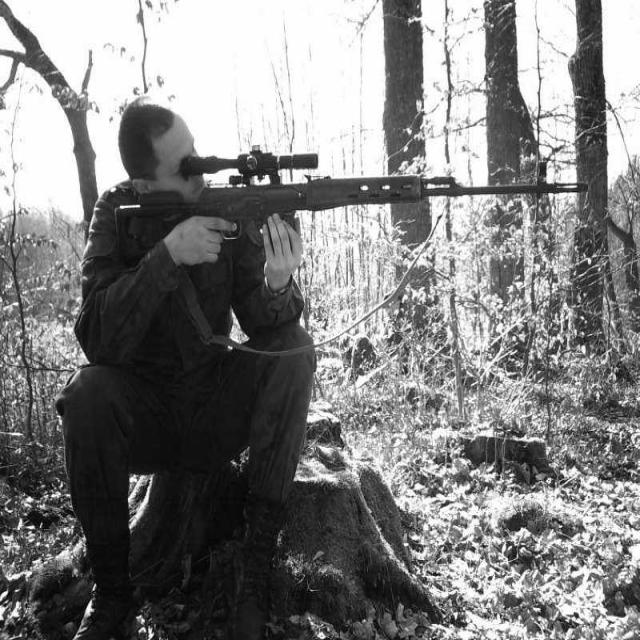heavyweapon: (107, 117, 623, 299)
